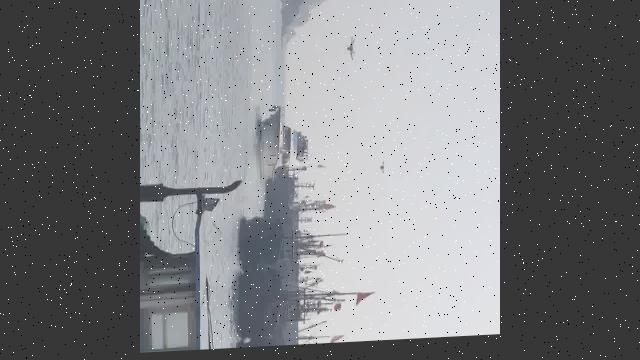drone: (346, 39, 358, 64)
